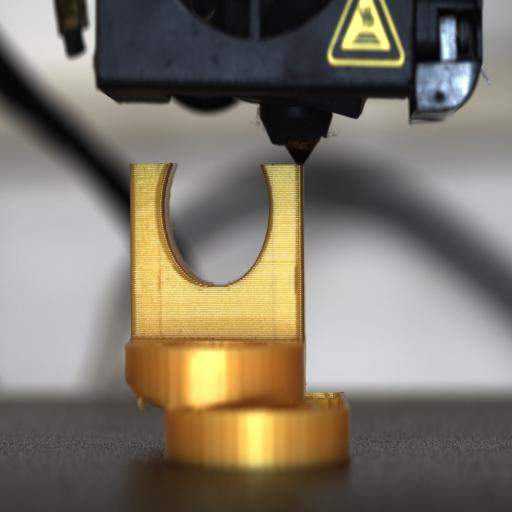layer_shift: (122, 378, 353, 419)
